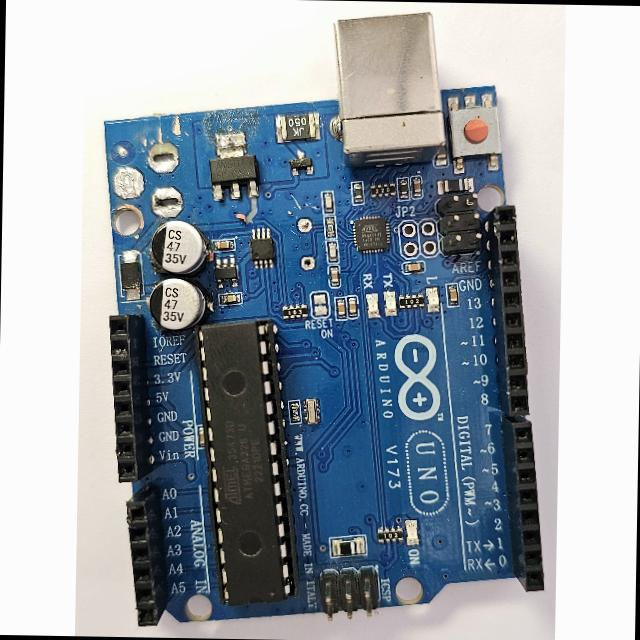missing_crystal_os: (288, 194, 323, 288)
missing_eps: (139, 132, 191, 223)
